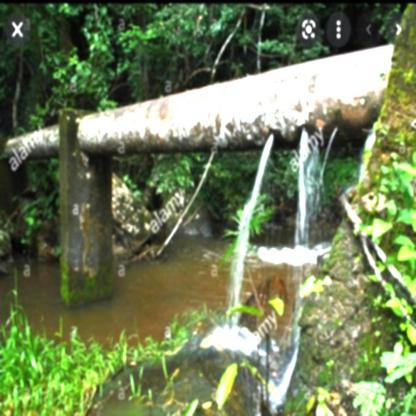burst: (257, 120, 330, 164)
